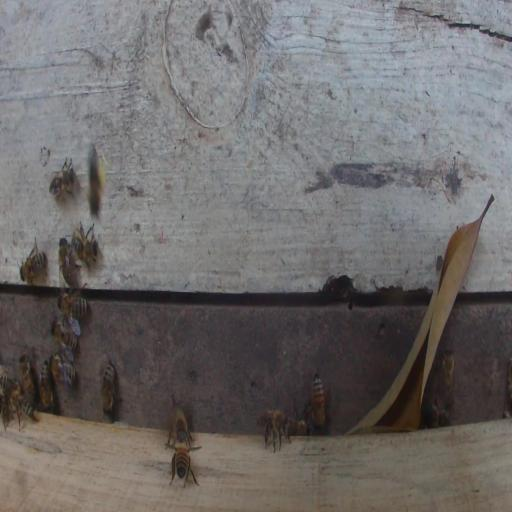nonpollenbee: (256, 408, 292, 453), (19, 238, 48, 284), (4, 392, 38, 430), (71, 220, 99, 265), (49, 155, 77, 198), (165, 402, 190, 448), (58, 237, 78, 292), (57, 290, 90, 321), (50, 352, 76, 389), (18, 352, 37, 399), (102, 363, 118, 417), (51, 318, 77, 351), (311, 372, 326, 428), (39, 360, 54, 411), (426, 399, 452, 427), (442, 347, 455, 397), (175, 445, 189, 481), (291, 416, 313, 436), (0, 375, 20, 397)
pollenbee: (82, 139, 109, 221)
